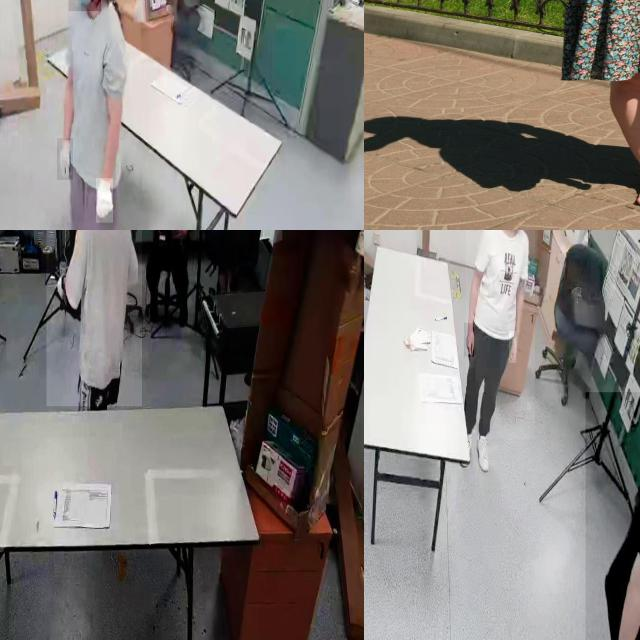face_mask: (68, 0, 101, 11)
hand_glove: (96, 178, 114, 224), (57, 138, 73, 181)
hand_noglove: (464, 323, 474, 357), (509, 331, 517, 364), (172, 230, 187, 239), (165, 230, 176, 237)
person: (52, 0, 131, 230), (46, 230, 142, 407), (466, 230, 535, 440), (585, 392, 640, 640), (149, 230, 200, 325)
shoes: (474, 431, 492, 478)
